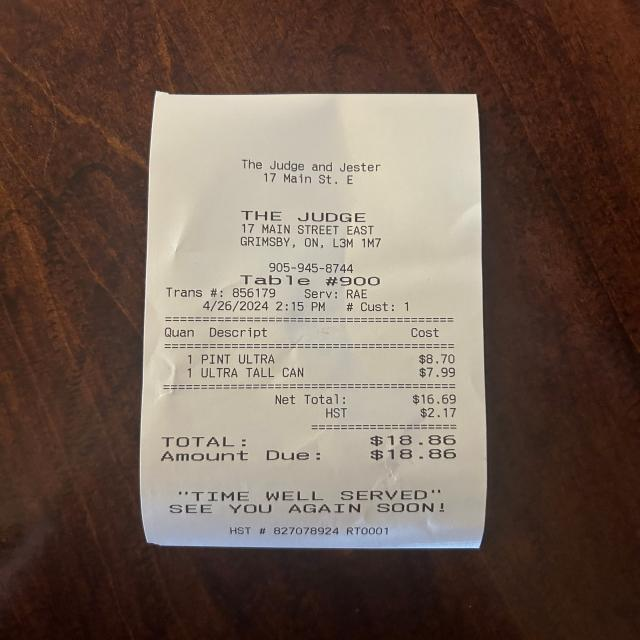item: (196, 364, 460, 383), (196, 350, 459, 366)
store_name: (232, 207, 374, 226)
total_amount: (156, 433, 462, 450)
transaction_date: (198, 298, 274, 316)
